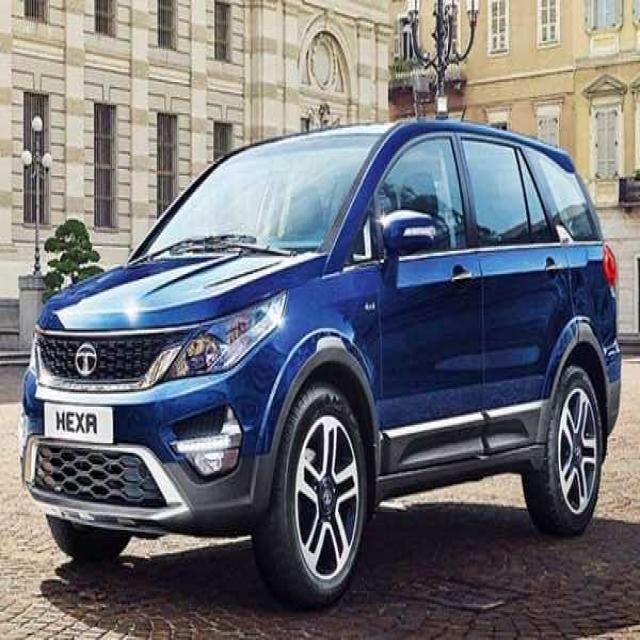Car: (14, 108, 625, 598)
